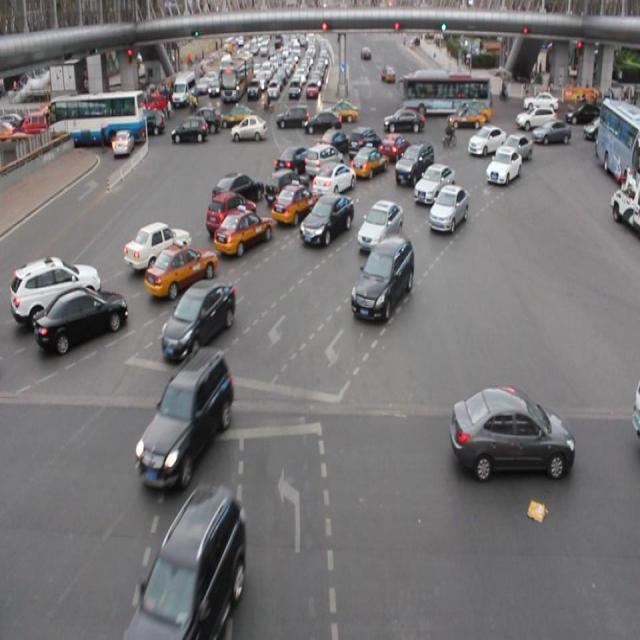car: (132, 488, 244, 640), (137, 350, 228, 489), (450, 386, 571, 478), (34, 285, 128, 350), (11, 255, 100, 322), (162, 278, 234, 356), (351, 236, 412, 319), (146, 244, 216, 298), (124, 221, 191, 268), (215, 204, 272, 256), (299, 194, 353, 248), (357, 198, 402, 250), (205, 191, 257, 236), (271, 182, 319, 226), (414, 162, 454, 208), (212, 172, 264, 207), (429, 185, 467, 232), (263, 170, 307, 209), (396, 141, 434, 186), (311, 160, 354, 199), (273, 145, 315, 180), (484, 146, 519, 185), (350, 145, 386, 180), (467, 124, 505, 155), (378, 132, 410, 164), (346, 128, 379, 159), (316, 126, 349, 156), (497, 134, 530, 163)
truck: (303, 144, 344, 182)
